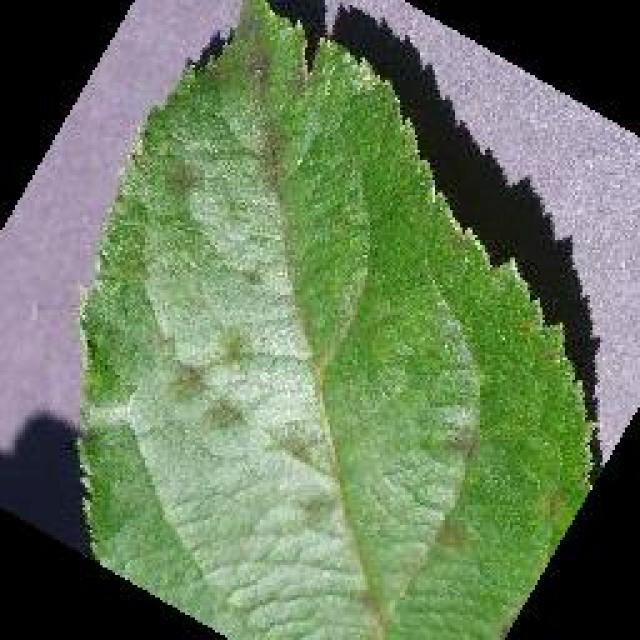apple scab disease: (72, 0, 602, 638)
